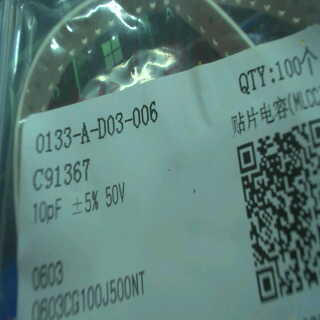10pF: (27, 194, 68, 222)
